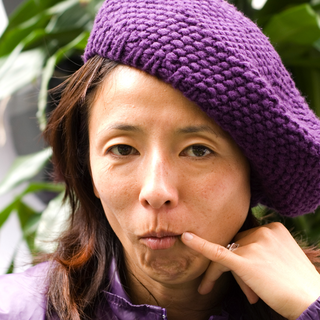eye: (177, 139, 222, 164), (103, 138, 144, 163)
